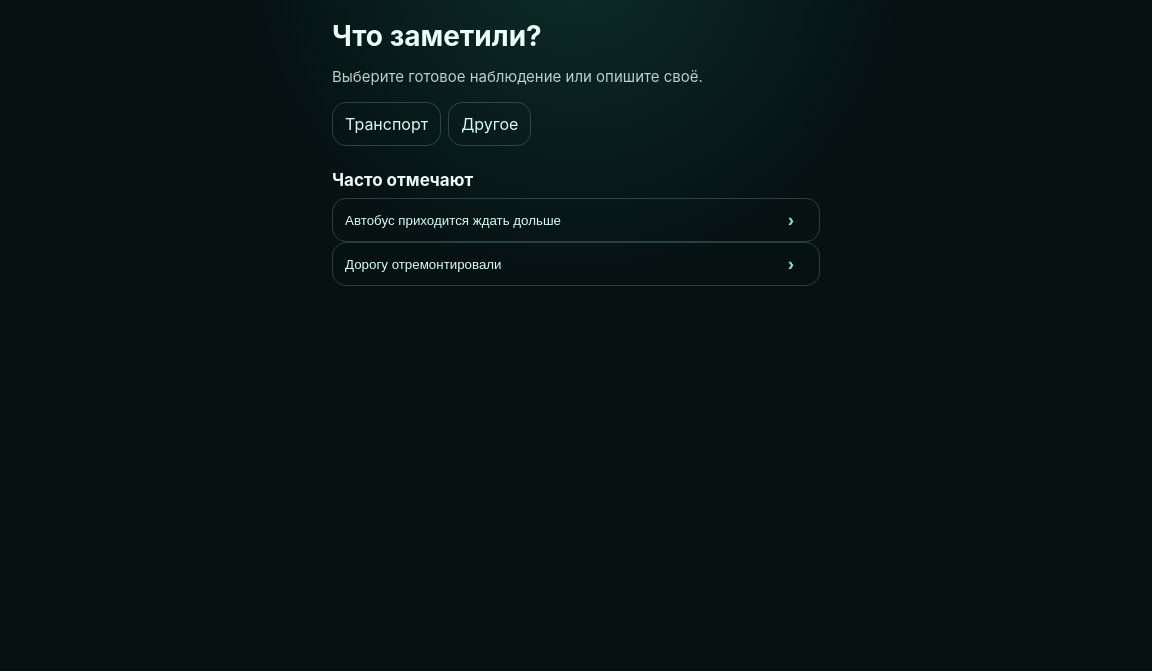
Scenario: MobileDeltaCreateFlow observation controller › outside-Perm geolocation remains on location
Click the button "Автобус приходится ждать дольше ›" at point(453, 220), box [332,198,820,242]
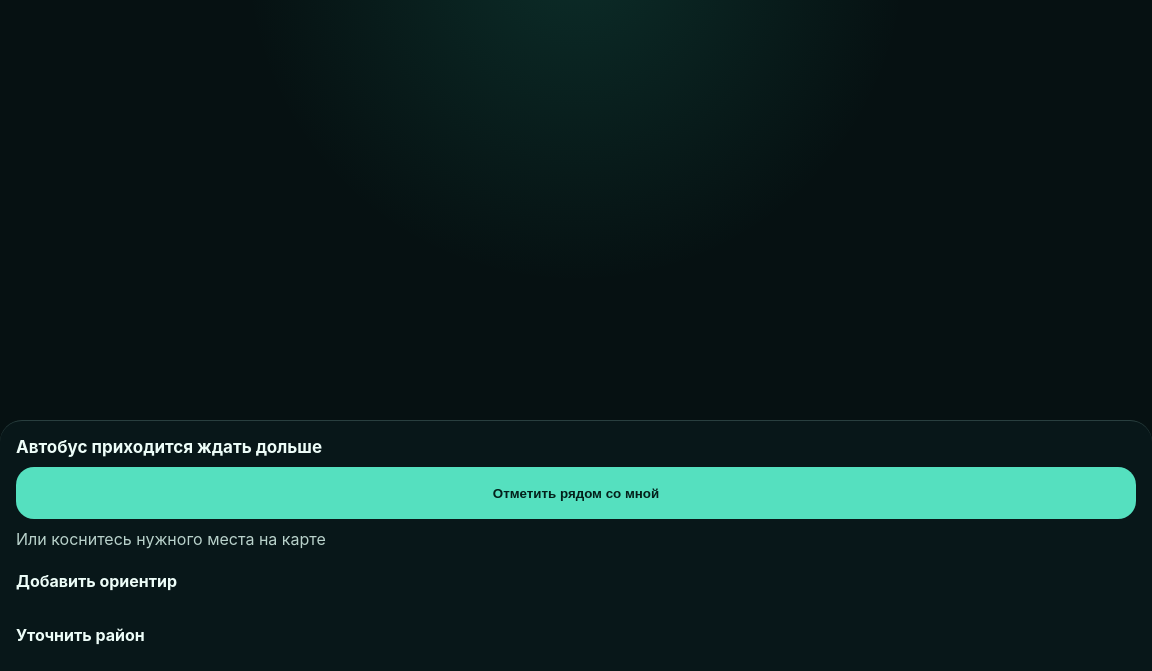
Click the button "Отметить рядом со мной" at point(576, 493), box [16,467,1136,519]
(page scrolled)
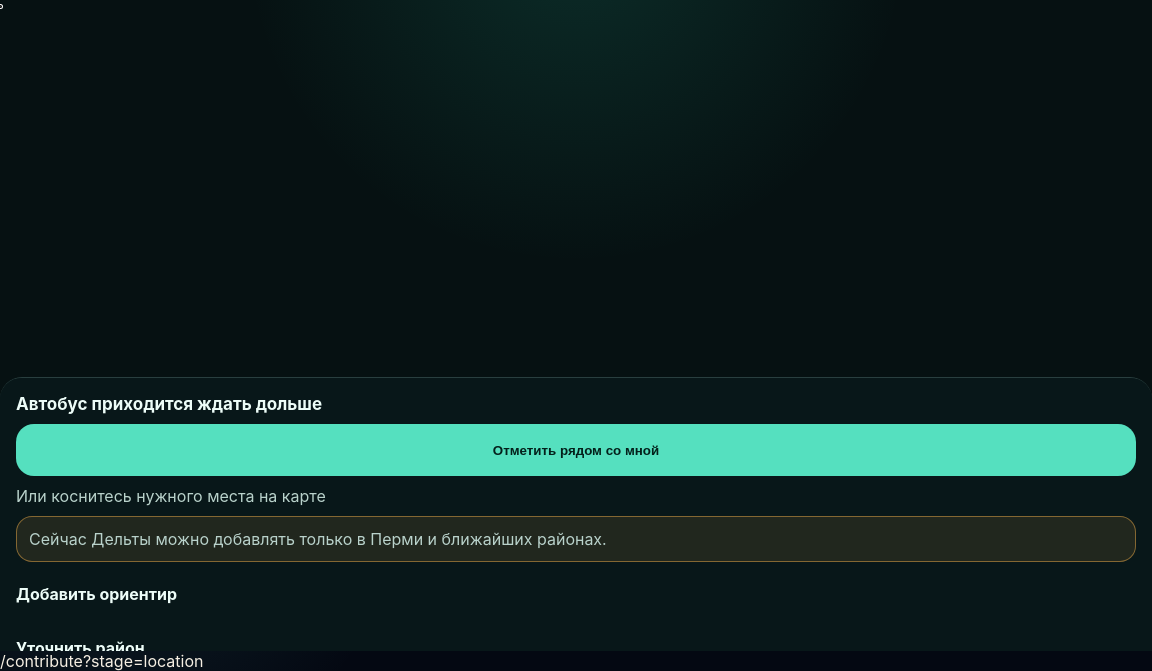
Check: the text named "route" reads "/contribute?stage=location", box [0,651,204,670]
Check: the message shows "Сейчас Дельты можно добавлять только в Перми", box [29,529,607,549]
